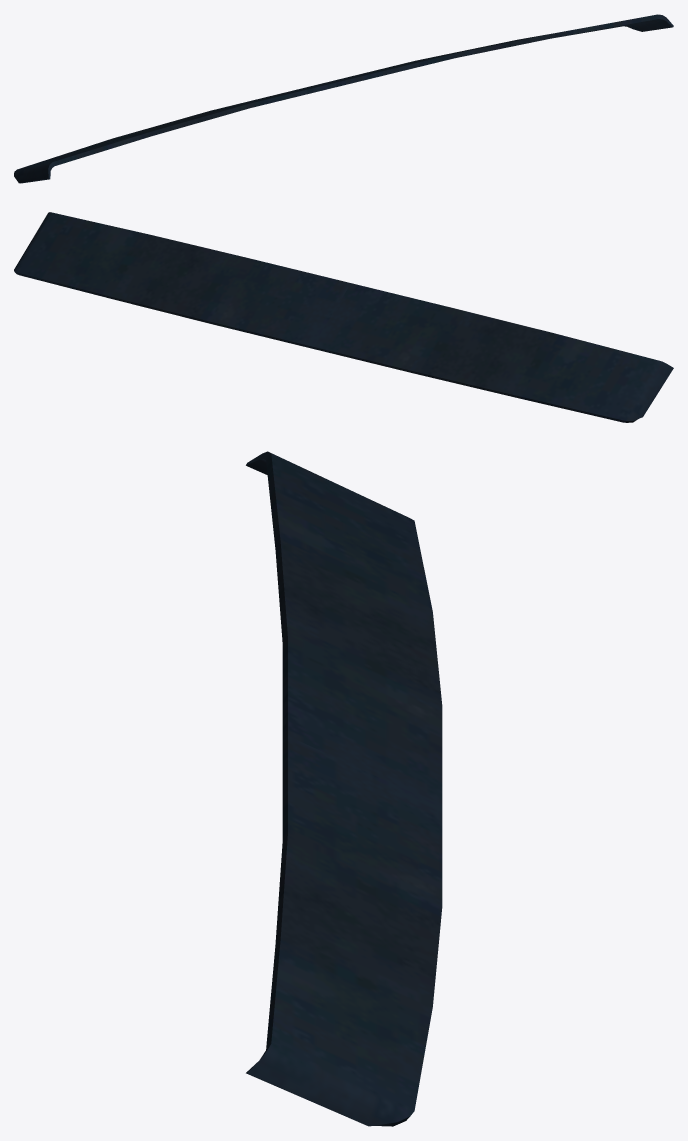
File: part_6_roofspoiler.fbx
3 renders of one model, top to bottom at view 1: azimuth 30°, elevation 25°; view 2: azimuth 150°, elevation 25°; view 3: azimuth 270°, elevation 25°, orthographic. The views are drawn at different scales.
Parts seen in each view (by area): view 1: part_6_roofspoiler.001; view 2: part_6_roofspoiler.001; view 3: part_6_roofspoiler.001.
Part boxes in pixels (left/top/right/bottom): part_6_roofspoiler.001: left=14, top=14, right=673, bottom=183; part_6_roofspoiler.001: left=14, top=212, right=673, bottom=422; part_6_roofspoiler.001: left=246, top=451, right=442, bottom=1126.
Size of the model in its own units: 110 by 7.57 by 15.03.
